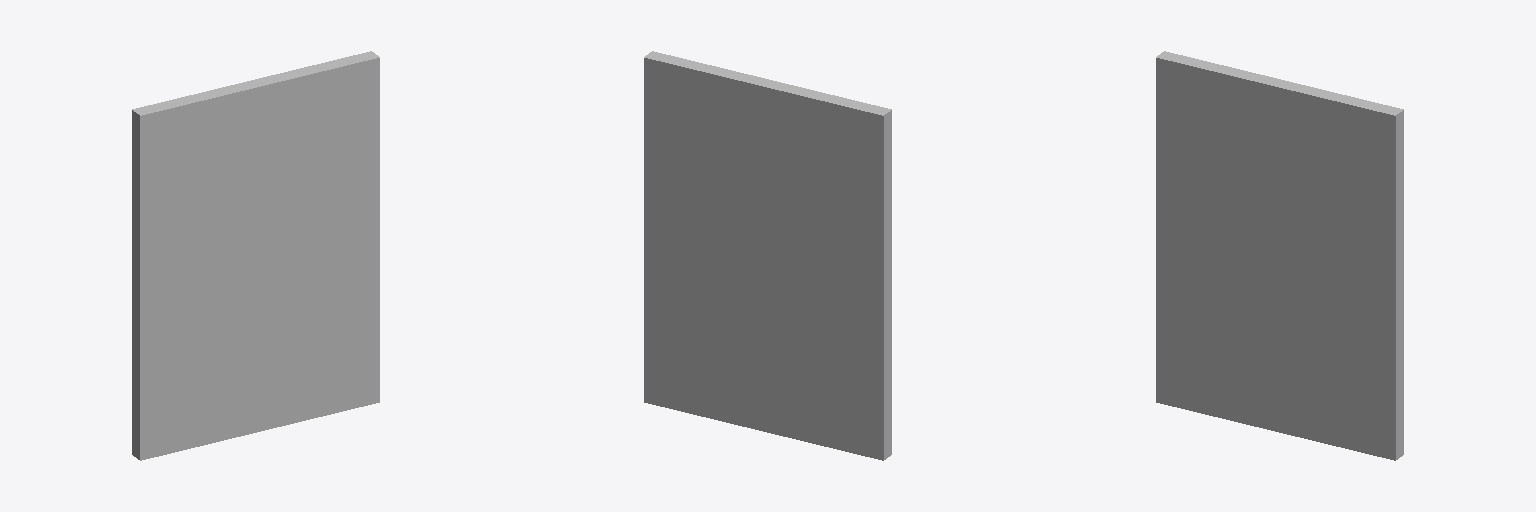
File: RoadBlock.obj
3 views of the same model, side by side, from view 1: azimuth 30°, elevation 25°; view 2: azimuth 150°, elevation 25°; view 3: azimuth 330°, elevation 25° (orthographic).
Parts seen in each view (by area): view 1: CUBE1.001; view 2: CUBE1.001; view 3: CUBE1.001.
Part boxes in pixels (x1,y1,x2,y2): CUBE1.001: (132, 51, 379, 460); CUBE1.001: (644, 51, 891, 460); CUBE1.001: (1156, 51, 1403, 460).
Size of the model in its own units: 16 by 22 by 1.